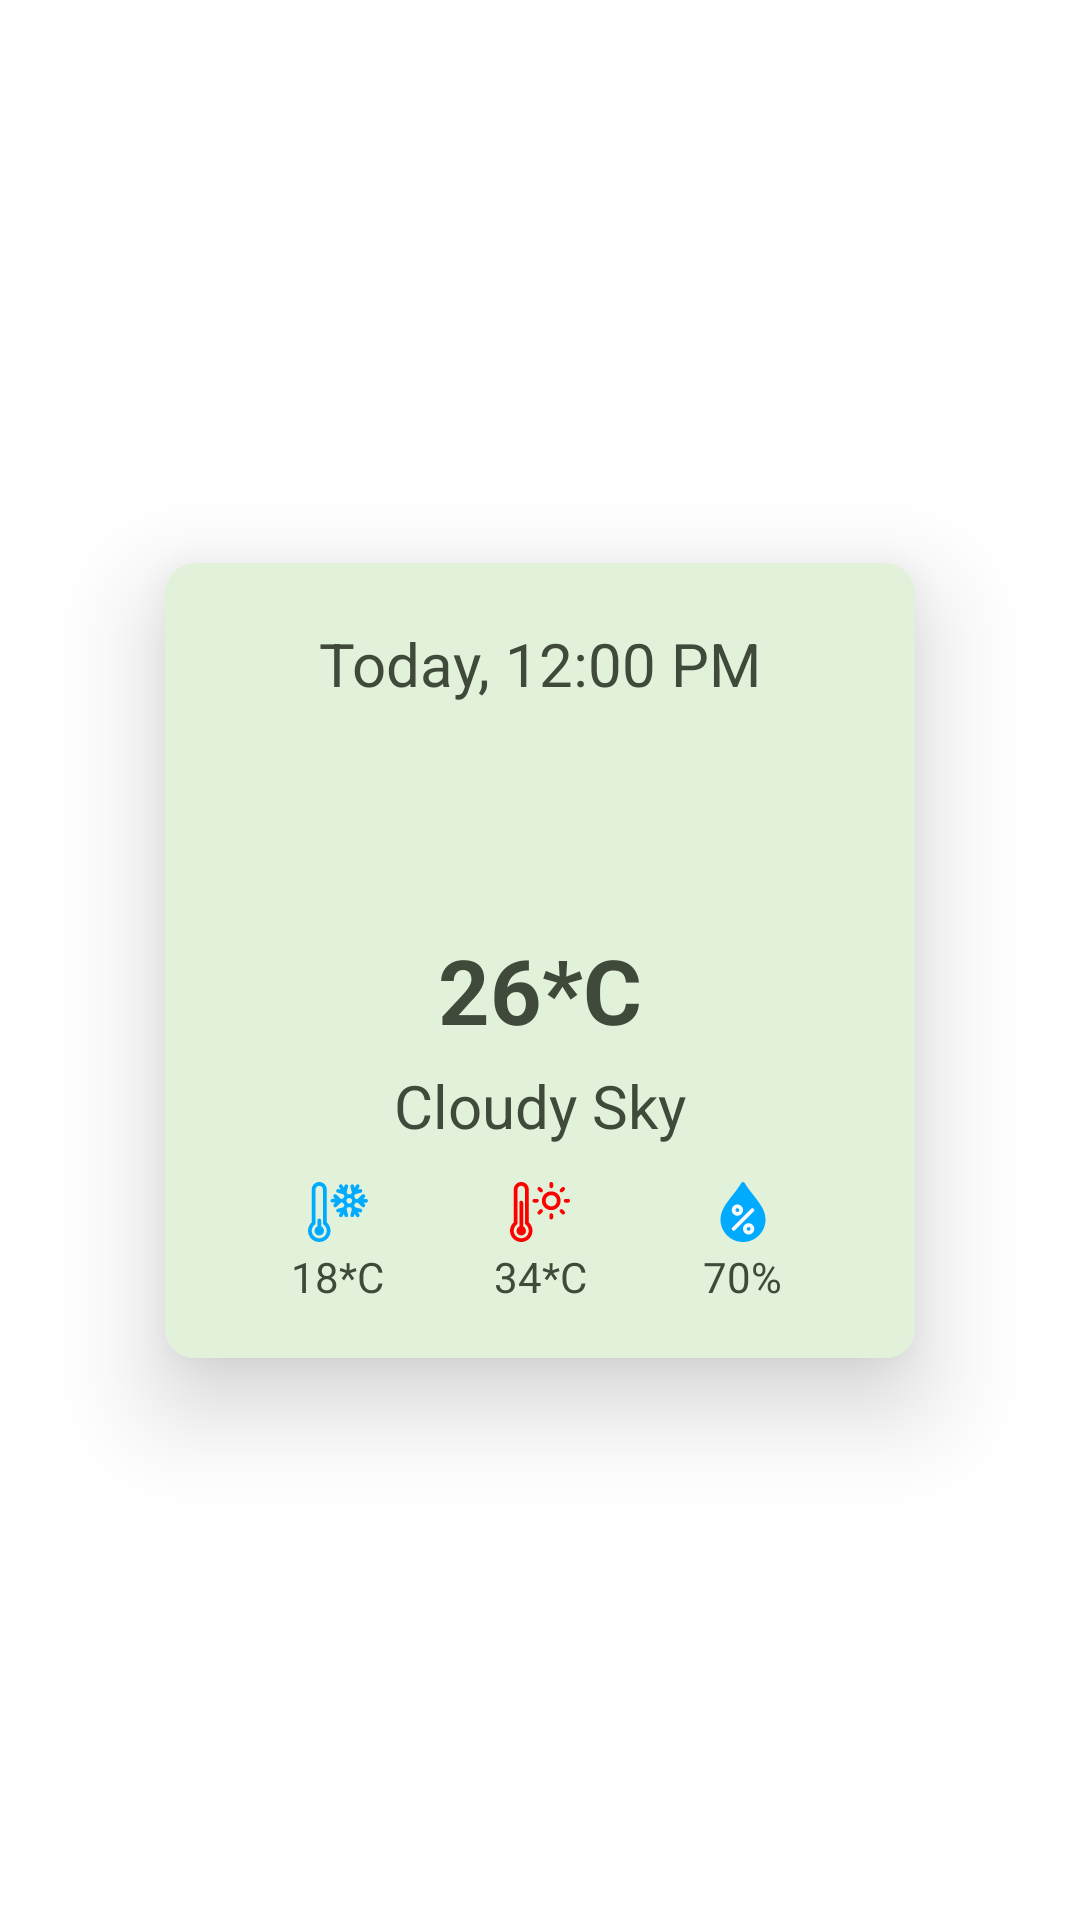

Named icons in this screenshot (1080 × 1920) and their bounding boxes, (x1, y1, x2, y2):
humidity: (720, 1182, 766, 1242)
